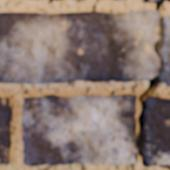brick: (23, 95, 136, 166), (142, 98, 169, 166), (0, 98, 11, 163), (145, 0, 164, 2)
broken_brick: (0, 9, 159, 84), (164, 33, 169, 86), (165, 15, 169, 28)
crack: (133, 2, 169, 167), (159, 165, 169, 169)
